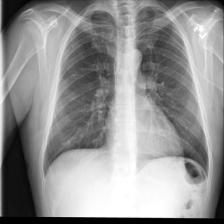normal: (38, 1, 214, 183)
